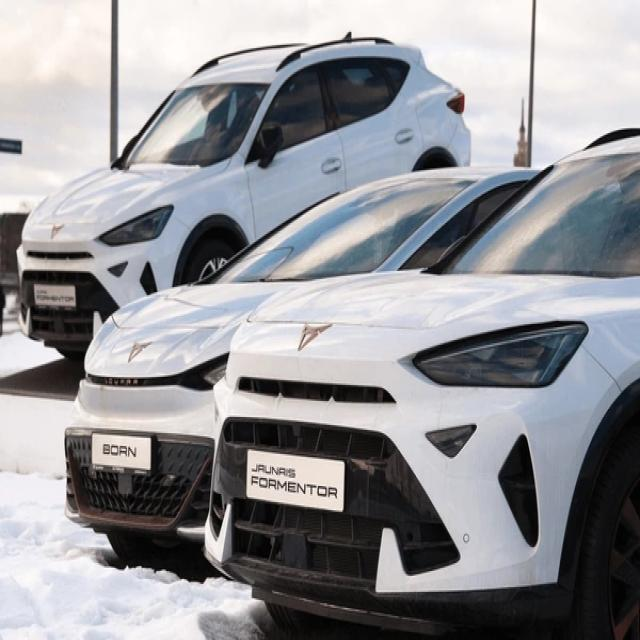cupra: (293, 314, 332, 356), (128, 334, 152, 368), (48, 216, 65, 243)
